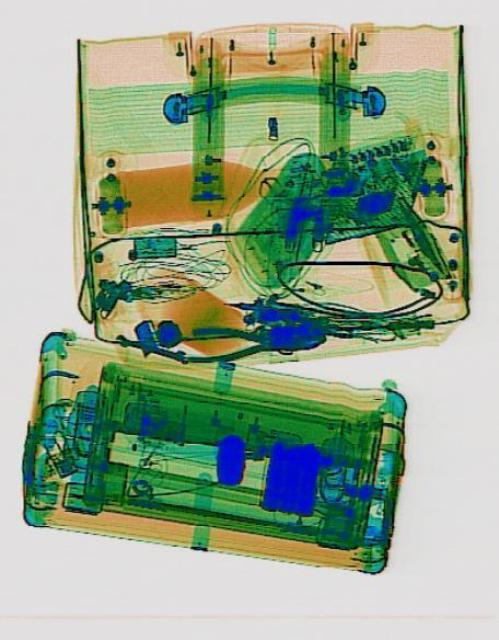Pliers: (186, 315, 325, 363)
Wrench: (112, 331, 187, 365)
